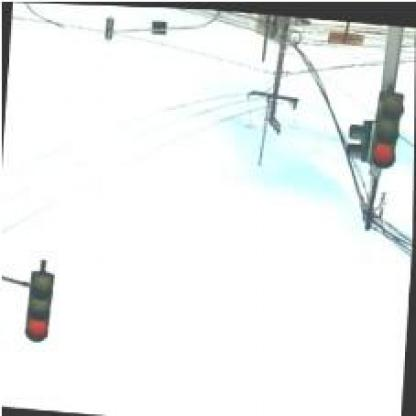red: (368, 86, 405, 167), (24, 266, 53, 341)
